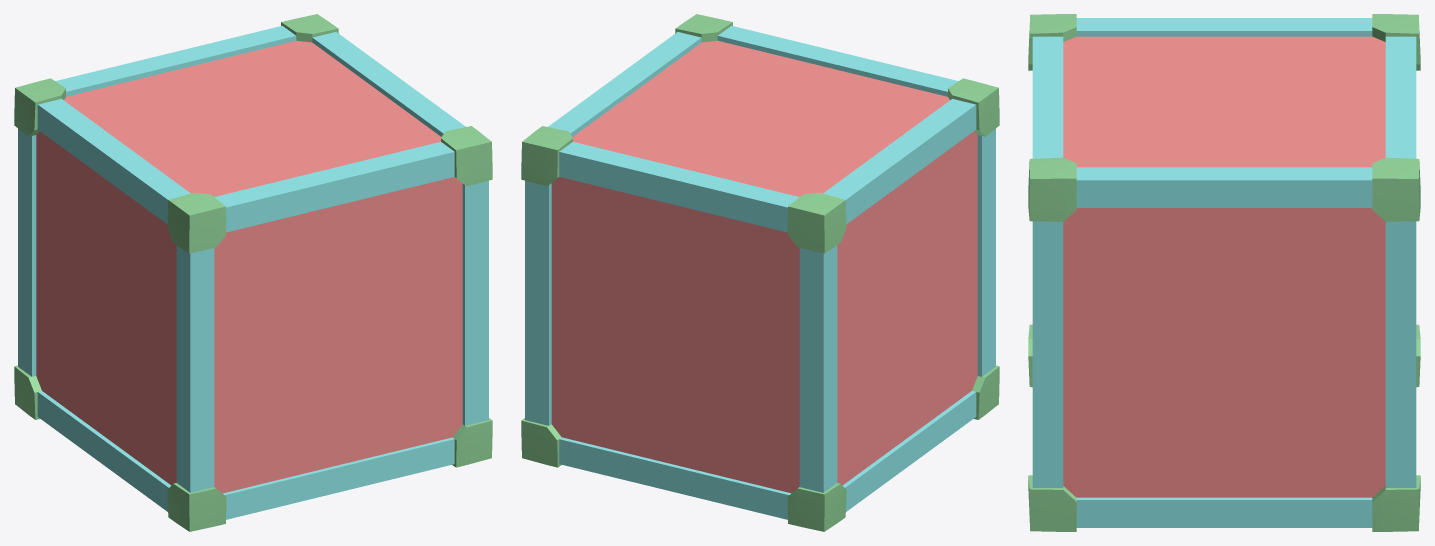
File: caixa_luz.FBX
The picture shows the model from 3 angles, left to right: view 1: azimuth 30°, elevation 25°; view 2: azimuth 150°, elevation 25°; view 3: azimuth 270°, elevation 25°; orthographic projection. The views are drawn at different scales.
Parts seen in each view (by area): view 1: caixaMiolo, caixaQuadro; view 2: caixaMiolo, caixaQuadro; view 3: caixaMiolo, caixaQuadro.
Boxes of the visible parts, left/top/right/bottom form: caixaMiolo: left=36, top=40, right=462, bottom=493; caixaQuadro: left=14, top=14, right=492, bottom=531; caixaMiolo: left=551, top=40, right=977, bottom=493; caixaQuadro: left=521, top=14, right=999, bottom=531; caixaMiolo: left=1063, top=36, right=1385, bottom=497; caixaQuadro: left=1028, top=14, right=1420, bottom=531.
Size of the model in its own units: 51.14 by 51.14 by 51.14.
